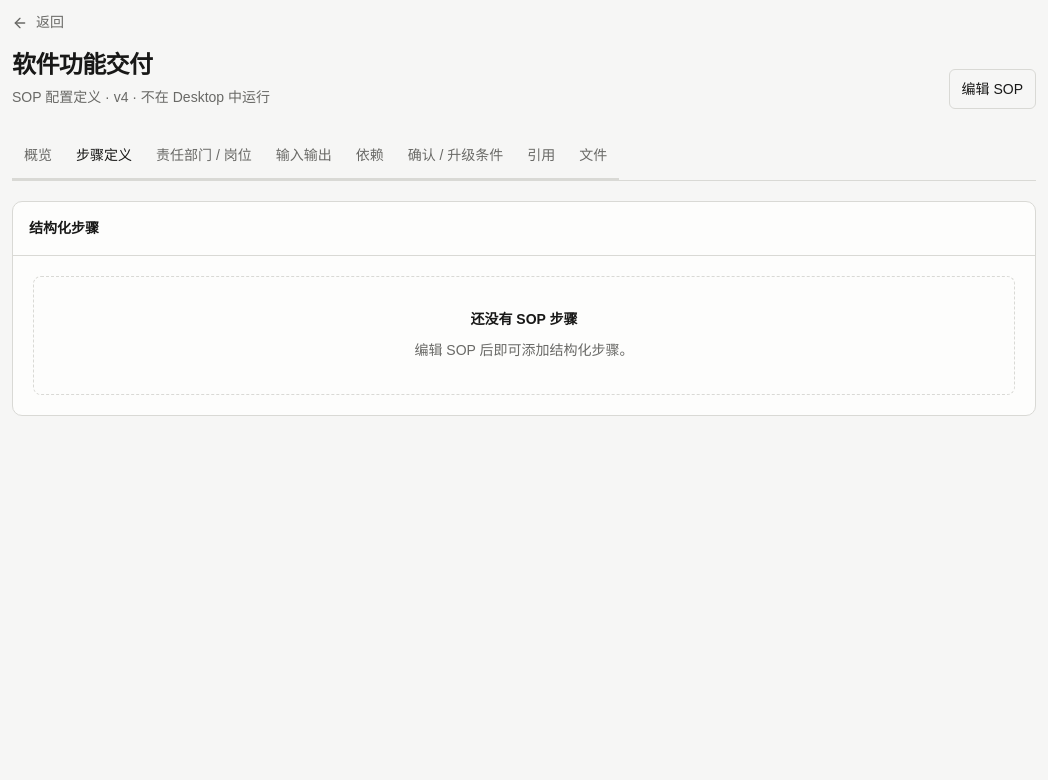
Test: 资产索引 › SOP 编辑字段有可见标签、错误关联和零步骤空态
Expected: the text "还没有 SOP 步骤" is shown, 470,311 -> 578,327
Click the button "编辑 SOP" at {"x": 992, "y": 89}, box 948,69 -> 1036,109
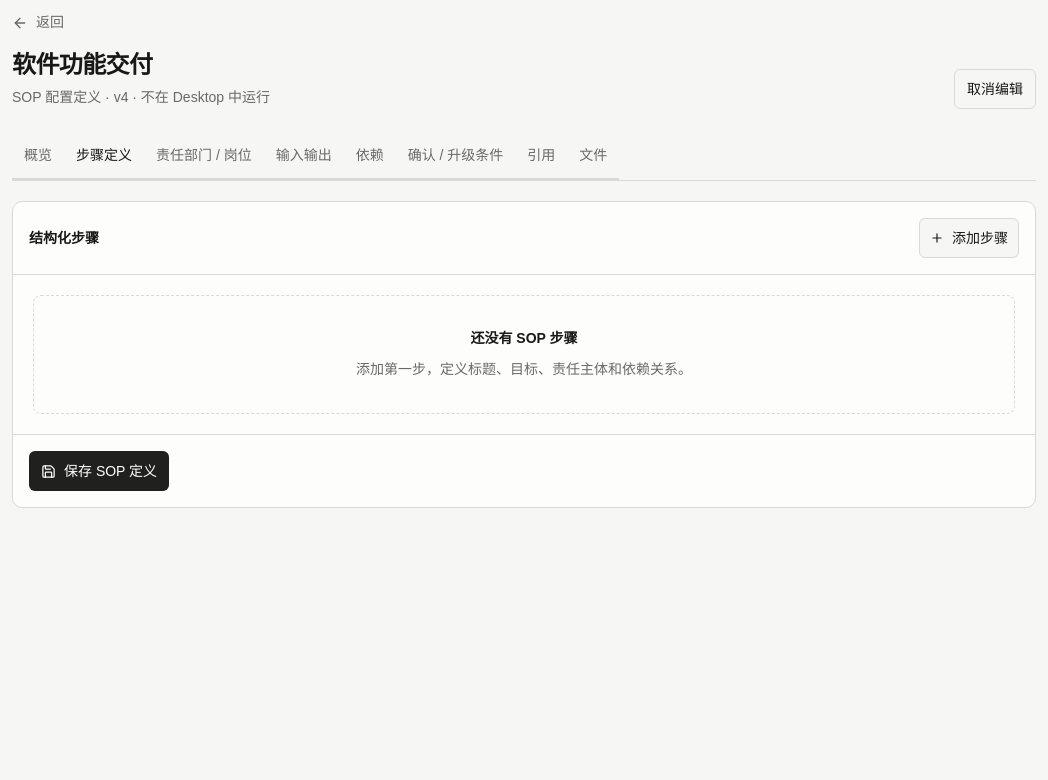
Click the button "添加步骤" at {"x": 969, "y": 238}, box 919,218 -> 1019,258
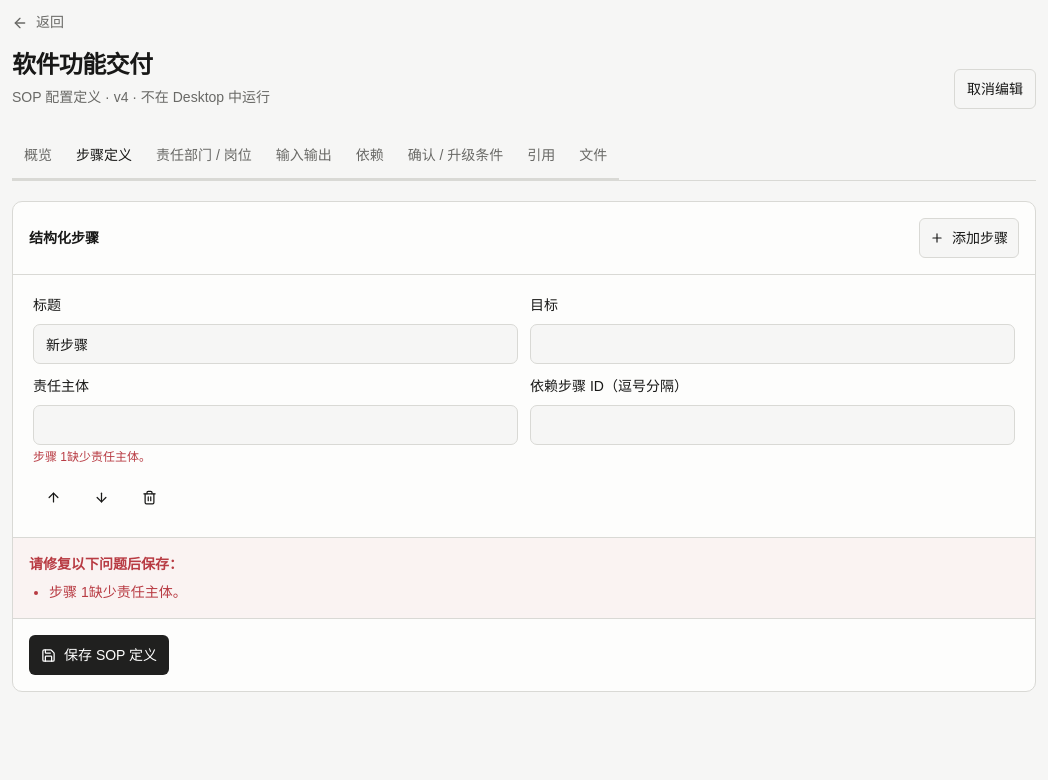
Now the field labelled "标题" is shown, box 33,324 -> 518,364
Now the field labelled "目标" is shown, box 530,324 -> 1015,364
Now the field labelled "依赖步骤 ID（逗号分隔）" is shown, box 530,405 -> 1015,445
